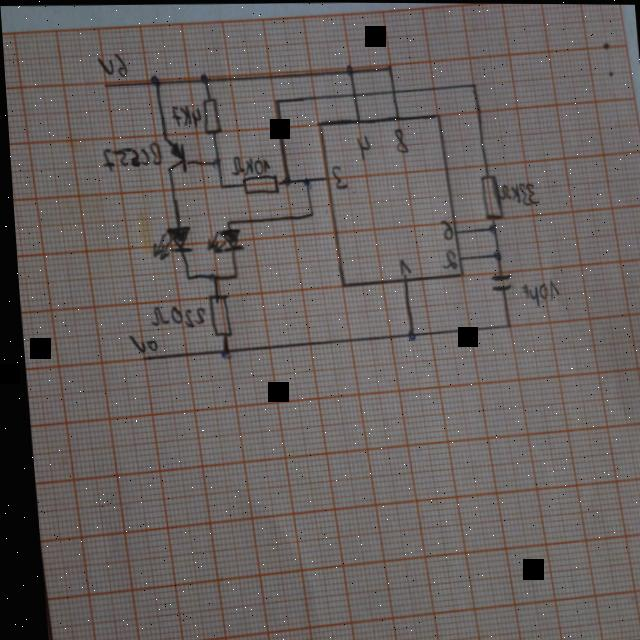capacitor: (486, 271, 511, 291)
crossover: (348, 86, 359, 99), (388, 85, 397, 95)
diode: (146, 223, 191, 261), (201, 226, 242, 255)
junction: (215, 343, 228, 359), (149, 73, 160, 87), (400, 328, 412, 340), (344, 62, 354, 76), (199, 71, 209, 85), (484, 222, 495, 233), (279, 175, 290, 186), (209, 157, 220, 168), (489, 247, 499, 259), (270, 95, 281, 105), (206, 271, 215, 281), (301, 175, 309, 186), (500, 317, 508, 328), (469, 80, 477, 90), (305, 208, 312, 219), (385, 62, 392, 72), (221, 217, 229, 225), (215, 181, 223, 189), (181, 271, 187, 280), (230, 271, 236, 279)
resistor: (476, 171, 502, 219), (203, 291, 229, 337), (239, 172, 278, 195), (198, 96, 221, 134)
terminal: (136, 354, 146, 362), (101, 80, 109, 90)
text: (98, 140, 161, 172), (145, 303, 202, 327), (517, 277, 557, 304), (495, 180, 538, 205), (227, 154, 269, 176), (168, 102, 201, 127), (96, 51, 127, 76), (123, 333, 153, 352), (391, 126, 408, 152), (354, 133, 370, 159), (329, 164, 346, 187), (438, 246, 455, 269), (435, 217, 451, 240), (394, 257, 408, 275)
transistor: (161, 134, 186, 173)
